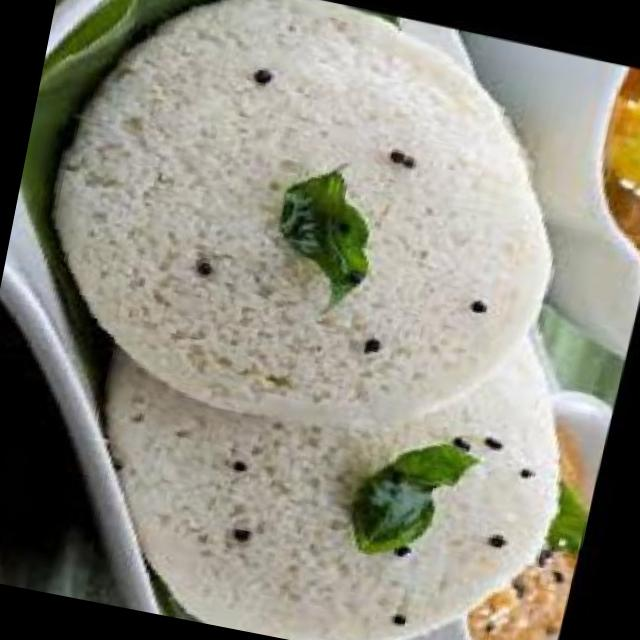idli: (15, 0, 602, 469), (65, 247, 595, 640)
